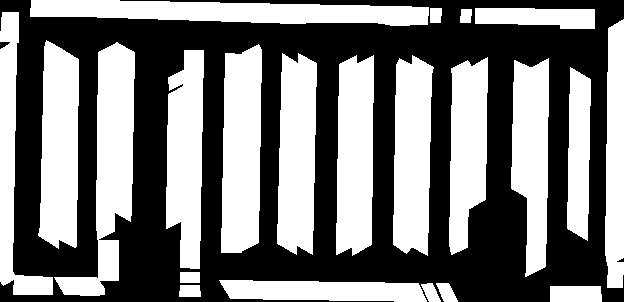parkingspot: (30, 0, 428, 25), (525, 58, 548, 276), (180, 50, 203, 268), (38, 40, 62, 248), (409, 55, 433, 255), (605, 19, 624, 265), (221, 53, 244, 252), (239, 44, 261, 252), (277, 53, 299, 254), (219, 280, 426, 301), (295, 53, 316, 254), (352, 55, 373, 255), (57, 48, 78, 247), (96, 42, 117, 239), (393, 58, 414, 253), (449, 60, 470, 254), (336, 55, 356, 254), (567, 67, 590, 240), (0, 39, 16, 285), (113, 42, 134, 221), (466, 57, 487, 210), (511, 60, 532, 199), (166, 85, 184, 228), (475, 8, 594, 28), (54, 277, 104, 295), (550, 286, 601, 302), (98, 240, 118, 280), (13, 275, 52, 294), (0, 12, 18, 42), (607, 262, 623, 287), (436, 283, 457, 302), (421, 283, 440, 302), (168, 69, 184, 90), (179, 285, 200, 296), (180, 272, 199, 282), (430, 8, 441, 22), (460, 9, 471, 22)
